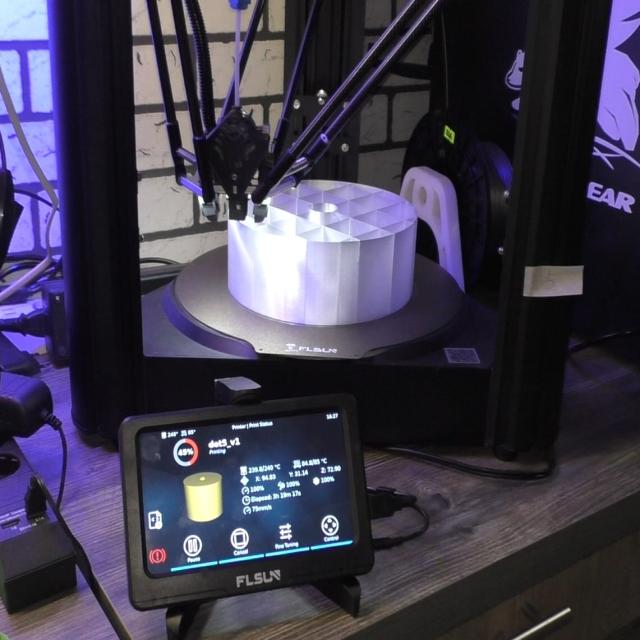Without deffect: (217, 161, 429, 330)
